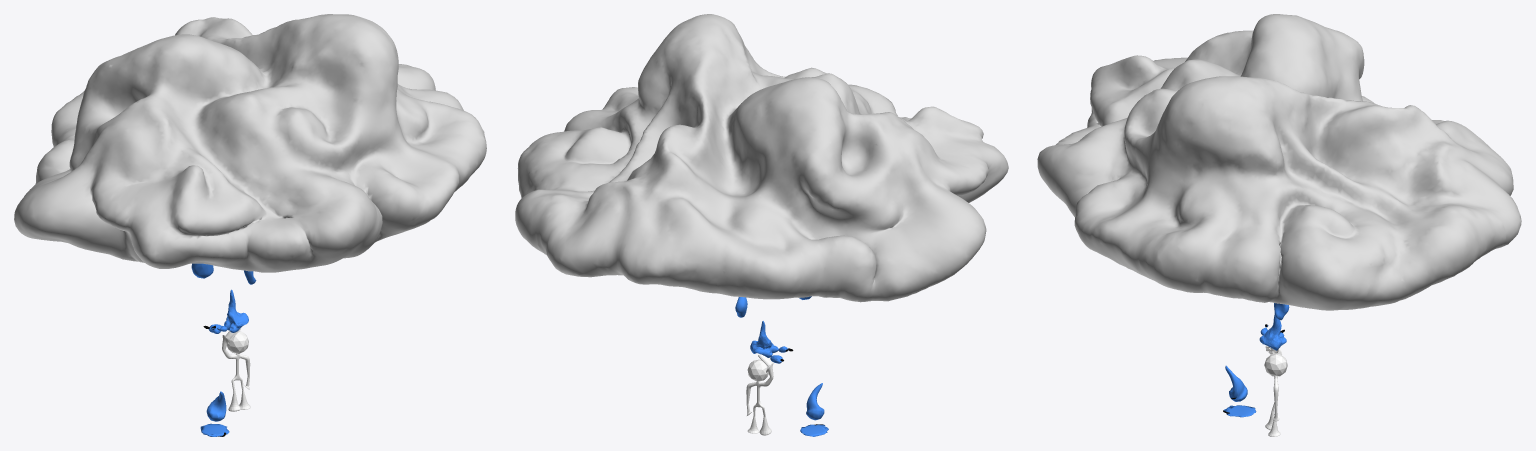
The model's file is clouds.glb.
3 views of the same model, side by side, from view 1: azimuth 30°, elevation 25°; view 2: azimuth 150°, elevation 25°; view 3: azimuth 270°, elevation 25° (orthographic). The views are drawn at different scales.
Parts seen in each view (by area): view 1: SF_0, SF_1, SF_2; view 2: SF_0, SF_1, SF_2; view 3: SF_0, SF_1, SF_2.
Boxes of the visible parts, x1,y1,x2,y2 form: SF_0: (14, 14, 486, 272); SF_1: (191, 263, 256, 436); SF_2: (222, 328, 250, 411); SF_0: (515, 14, 1008, 302); SF_1: (735, 296, 828, 436); SF_2: (746, 354, 774, 435); SF_0: (1037, 14, 1521, 310); SF_1: (1223, 303, 1289, 417); SF_2: (1264, 346, 1287, 436).
Bounding box in the file's own units: 3.34 × 2.79 × 3.11.
